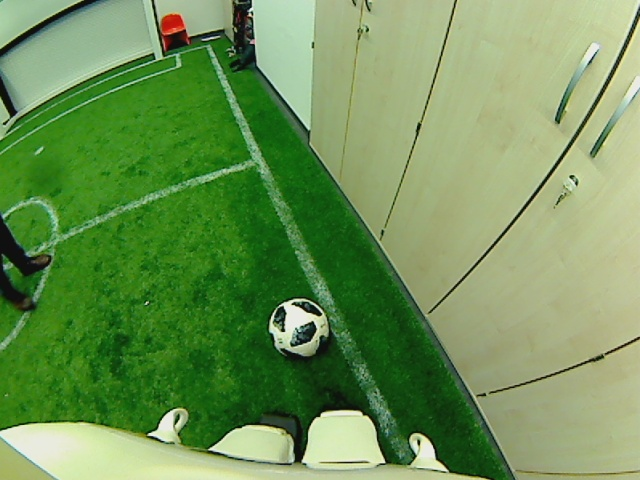ball: (267, 292, 330, 358)
